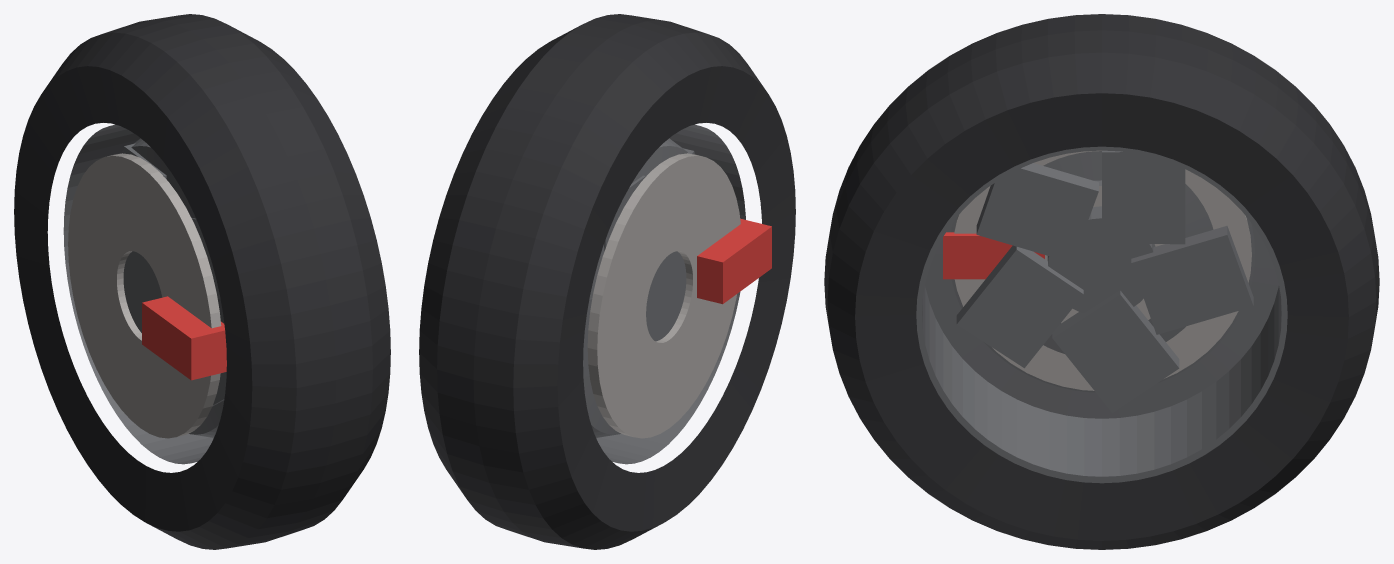
Rendered from gt_5spoke.glb.
3 views of the same model, side by side, from view 1: azimuth 30°, elevation 25°; view 2: azimuth 150°, elevation 25°; view 3: azimuth 270°, elevation 25° (orthographic). The views are drawn at different scales.
Parts seen in each view (by area): view 1: Tire, BrakeRotor, RimBarrel, BrakeCaliper, HubCap, RimSpokes; view 2: Tire, BrakeRotor, RimBarrel, BrakeCaliper, HubCap, RimSpokes; view 3: Tire, RimBarrel, RimSpokes, BrakeRotor, HubCap, BrakeCaliper.
Part boxes in pixels (box(x1,y1,x2,y2)): Tire: box(14, 14, 390, 549); BrakeRotor: box(68, 153, 221, 438); RimBarrel: box(63, 124, 224, 464); BrakeCaliper: box(142, 296, 226, 380); HubCap: box(123, 251, 162, 332); RimSpokes: box(124, 143, 226, 406); Tire: box(419, 14, 795, 549); BrakeRotor: box(587, 153, 740, 438); RimBarrel: box(583, 124, 745, 464); BrakeCaliper: box(697, 218, 771, 304); HubCap: box(646, 251, 686, 341); RimSpokes: box(583, 148, 694, 376); Tire: box(824, 14, 1379, 549); RimBarrel: box(916, 146, 1287, 483); RimSpokes: box(956, 150, 1253, 412); BrakeRotor: box(954, 150, 1251, 390); HubCap: box(1047, 206, 1155, 313); BrakeCaliper: box(943, 232, 1044, 279).
Size of the model in its own units: 0.295 by 0.8703 by 0.8703.
